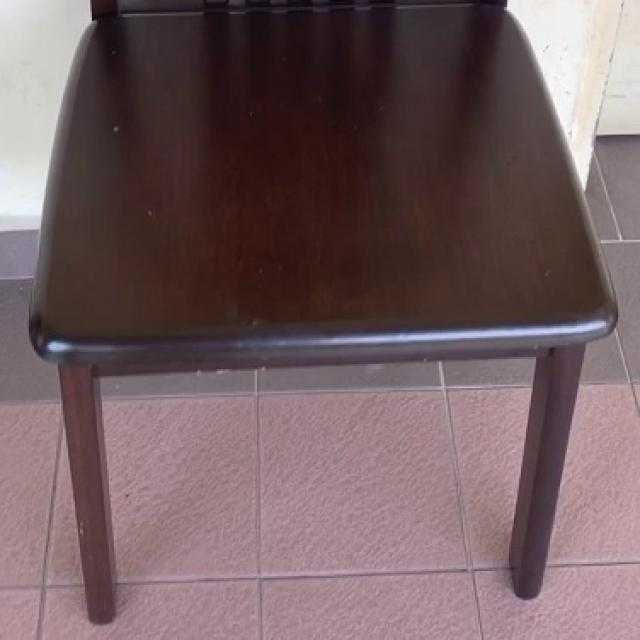Chair: (25, 3, 622, 634)
